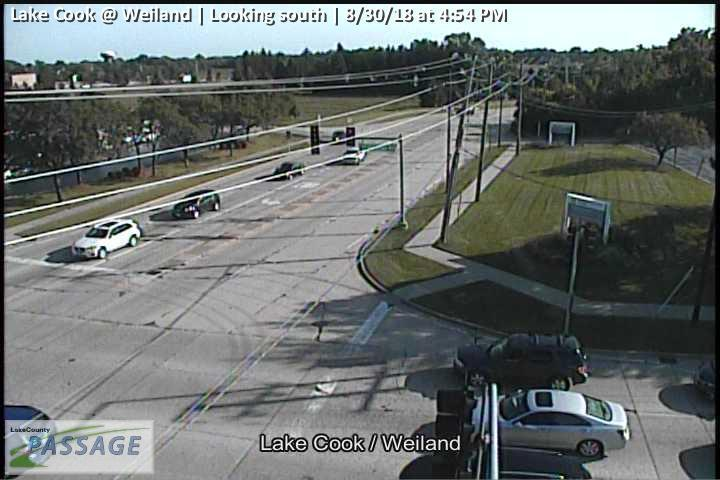SUV: (454, 333, 592, 393), (447, 445, 591, 480), (71, 218, 142, 260), (173, 190, 220, 219), (273, 161, 305, 180)
Sedan: (472, 387, 631, 456), (342, 148, 367, 163)
